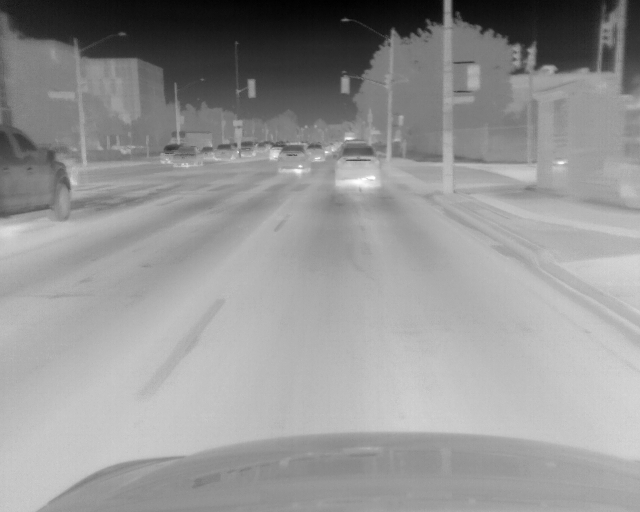car: (1, 125, 75, 225), (336, 142, 382, 190), (278, 144, 312, 175), (172, 146, 203, 167), (215, 144, 239, 162), (308, 142, 328, 163), (160, 142, 177, 165), (240, 141, 256, 158), (201, 144, 214, 164), (256, 141, 270, 158), (269, 144, 282, 161)
